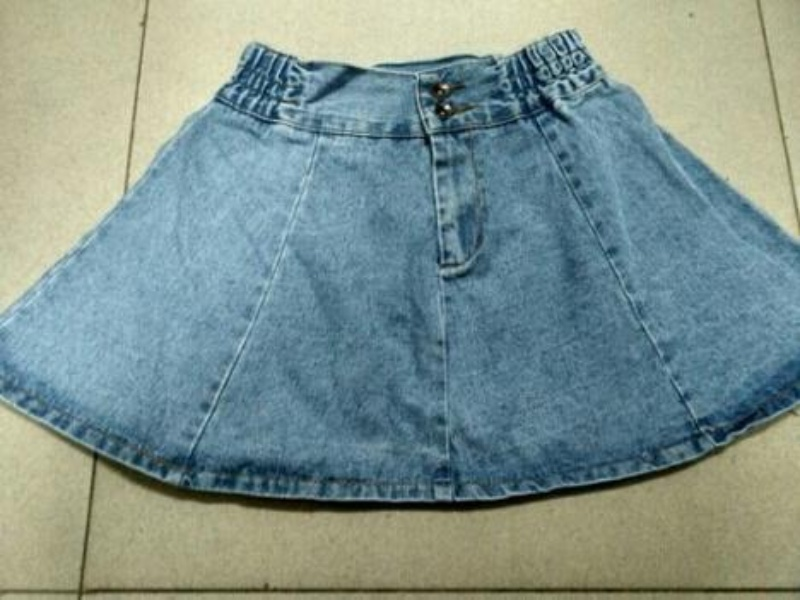skirt: (0, 26, 798, 508)
